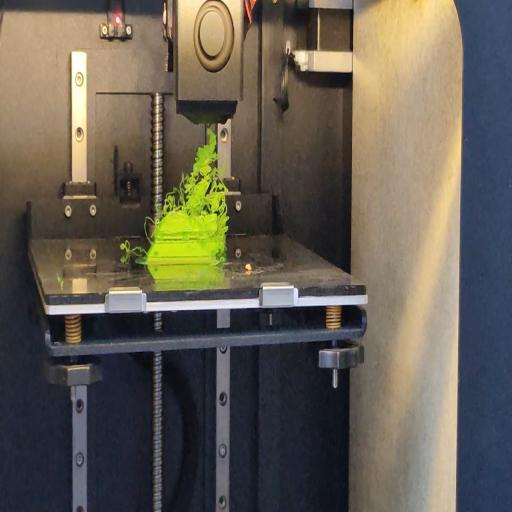spaghetti: (162, 128, 226, 214), (214, 214, 227, 267), (118, 238, 143, 254), (144, 216, 154, 241)
